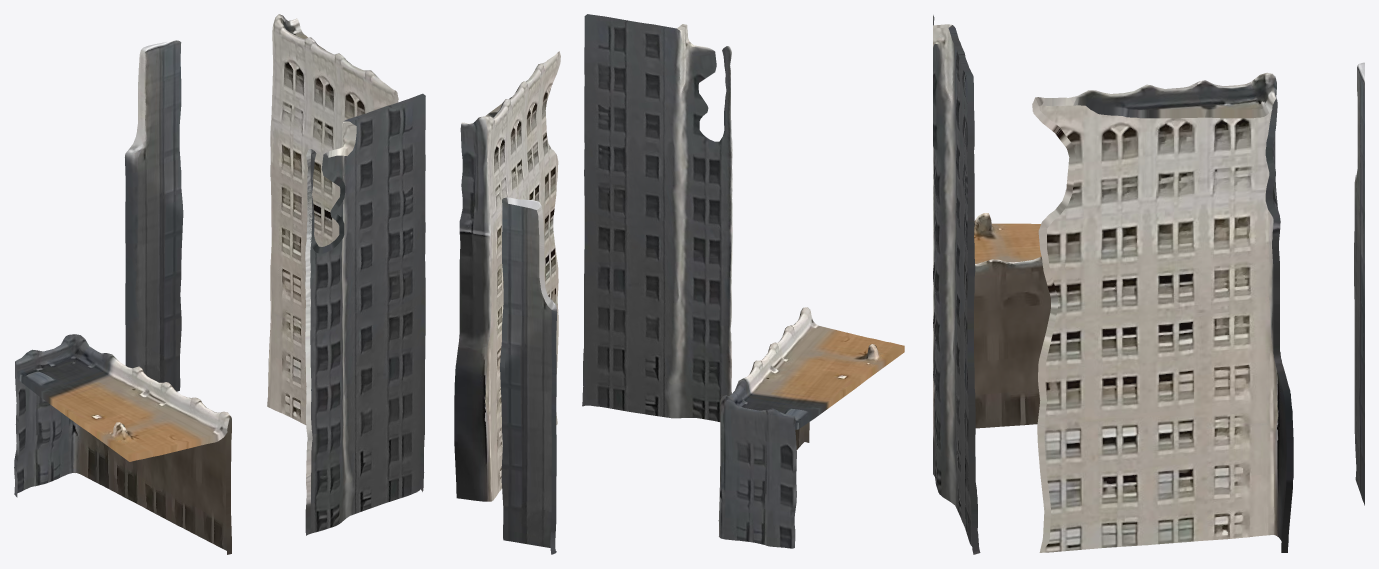
Rendered from z20-167763-405236-h1-yup-uvflip-v3-world.glb.
3 views of the same model, side by side, from view 1: azimuth 30°, elevation 25°; view 2: azimuth 150°, elevation 25°; view 3: azimuth 270°, elevation 25° (orthographic). The views are drawn at different scales.
Size of the model in its own units: 30.16 by 37.16 by 30.32.
Materials: 1 (1 with a texture image).
